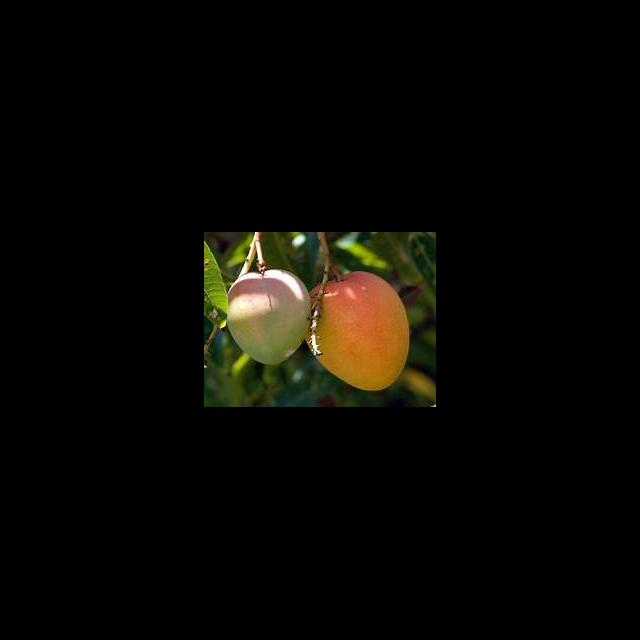mango: (316, 272, 409, 391), (228, 271, 310, 365)
